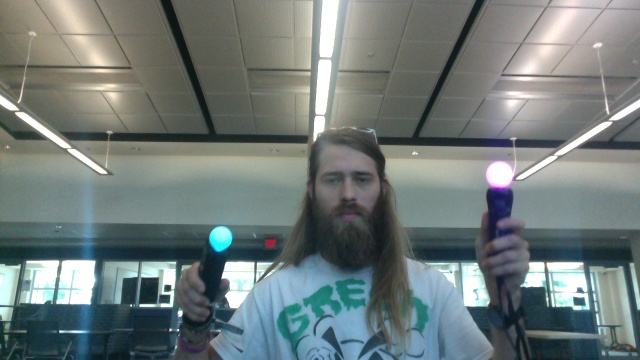wand: (486, 162, 514, 187), (209, 227, 233, 251)
